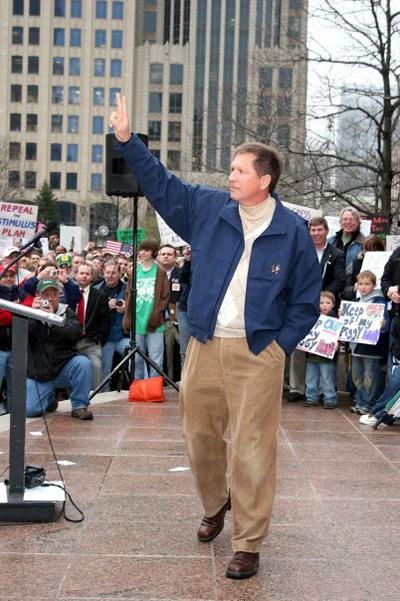person: (109, 89, 321, 576)
